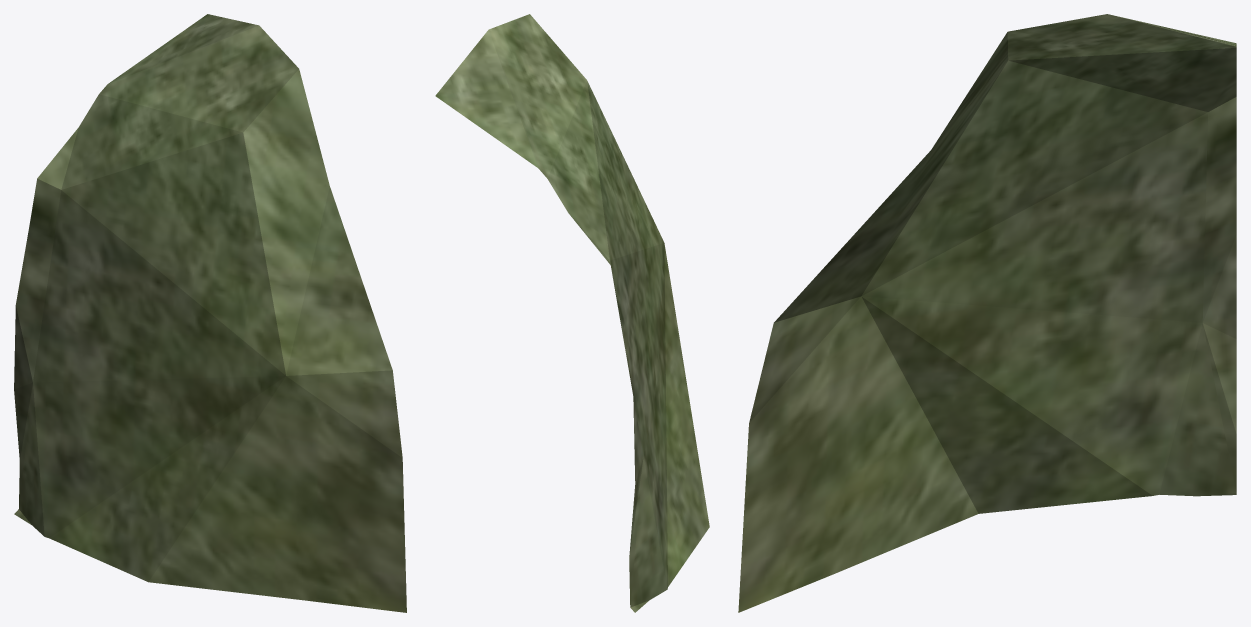
3 renders of one model, left to right at view 1: azimuth 30°, elevation 25°; view 2: azimuth 150°, elevation 25°; view 3: azimuth 270°, elevation 25°, orthographic. The views are drawn at different scales.
Bounding box in the file's own units: 0.9283 × 2.19 × 1.65.
1 material, 1 textured.
